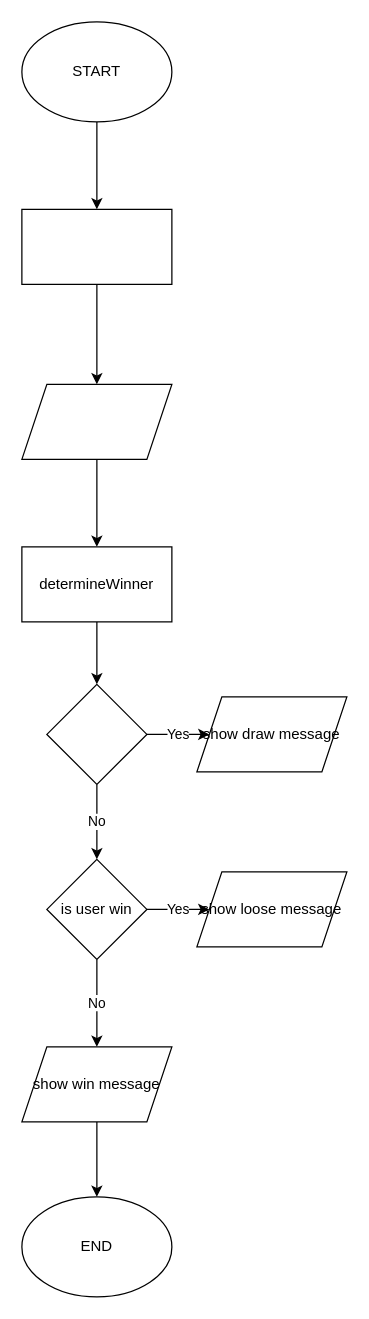
This 369x1319 diagram has some shape labels left out. The centre of each missing label's shape, as x and y in pixels:
GET computer choice: the point at 96,246
INPUT user selection: the point at 96,421
is draw: the point at 96,733
